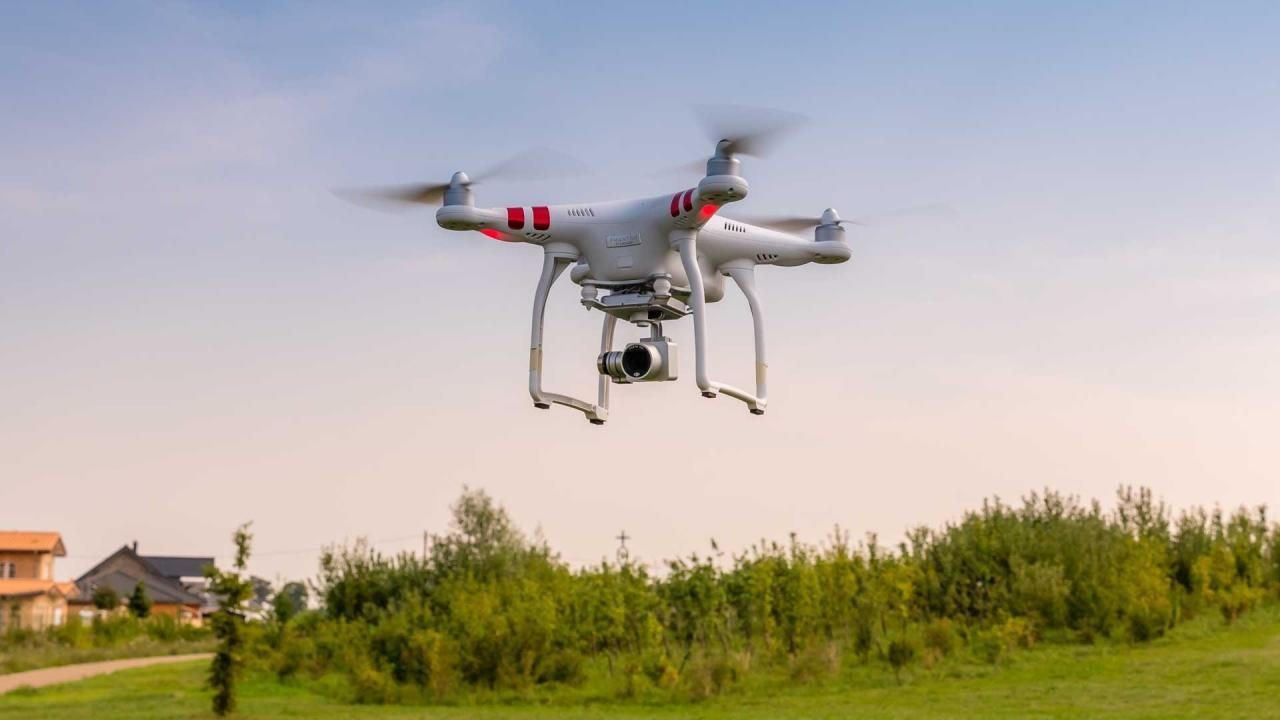Drone: (320, 99, 958, 434)
